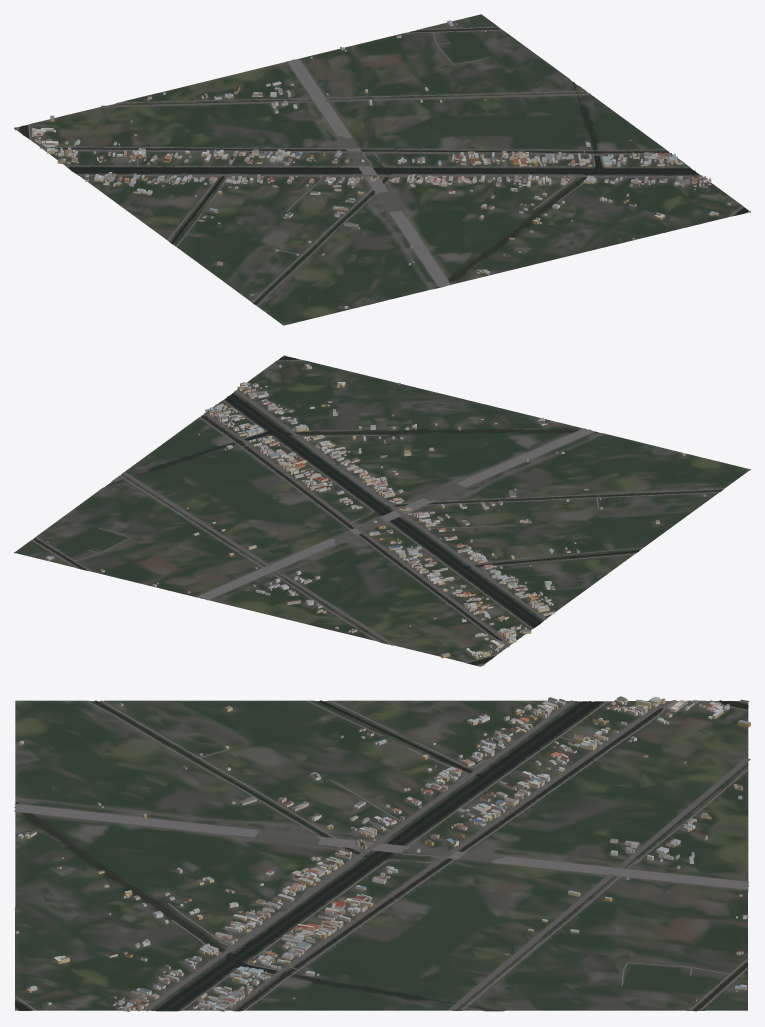
3 views of the same model, one above another, from view 1: azimuth 30°, elevation 25°; view 2: azimuth 150°, elevation 25°; view 3: azimuth 270°, elevation 25° (orthographic). The views are drawn at different scales.
Visible parts, largest first — view 1: ground, roads, buildings, water; view 2: ground, buildings, roads, water; view 3: ground, buildings, roads, water.
Part boxes in pixels (x1,y1,x2,y2): ground: [14, 14, 750, 325]; roads: [14, 26, 750, 306]; buildings: [31, 20, 730, 308]; water: [20, 28, 747, 304]; ground: [14, 355, 750, 666]; buildings: [46, 364, 705, 658]; roads: [31, 355, 724, 666]; water: [33, 357, 721, 664]; ground: [15, 700, 748, 1011]; buildings: [15, 696, 750, 1011]; roads: [14, 699, 750, 1011]; water: [14, 700, 748, 1011].
Bounding box in the file's own units: 1415 × 16.96 × 1408.
